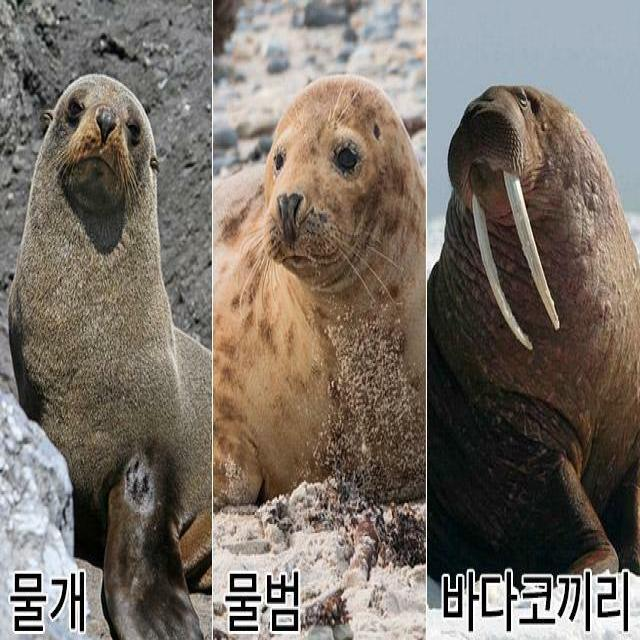walrus: (451, 70, 640, 562)
